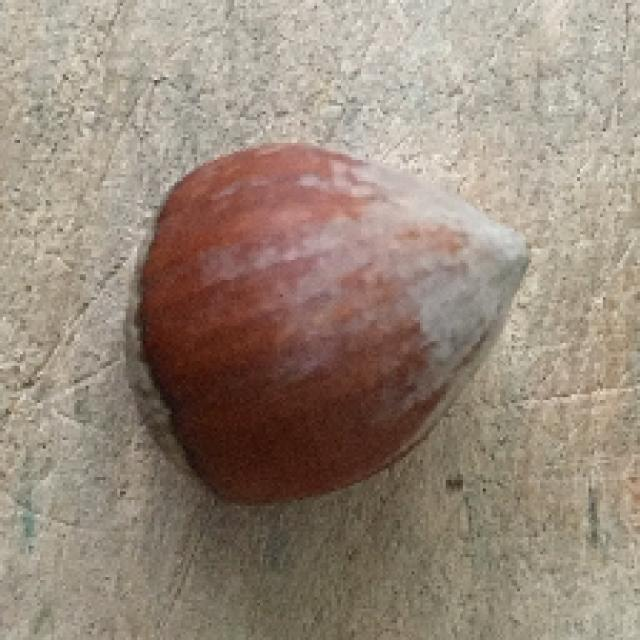QualityHazelnut: (123, 143, 535, 508)
